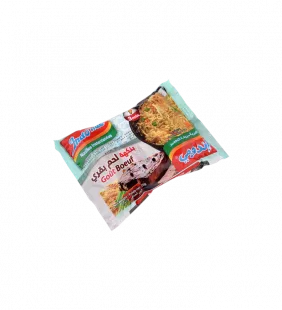INDOMIE: (44, 69, 236, 236)
